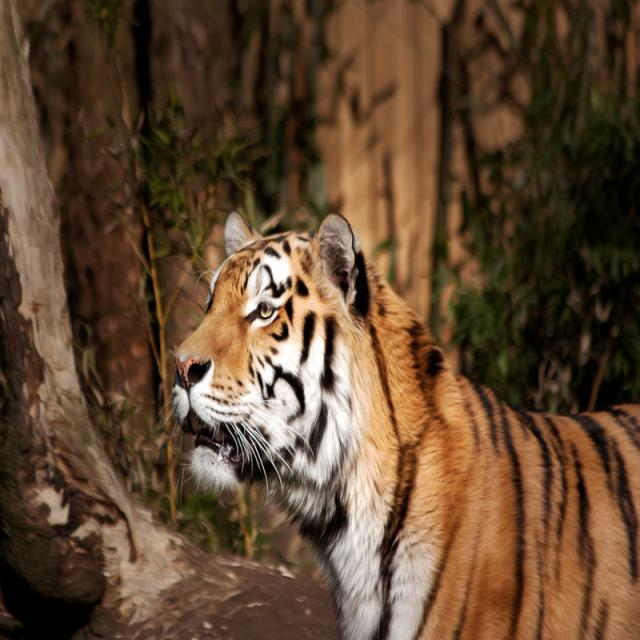Tiger: (170, 210, 632, 634)
